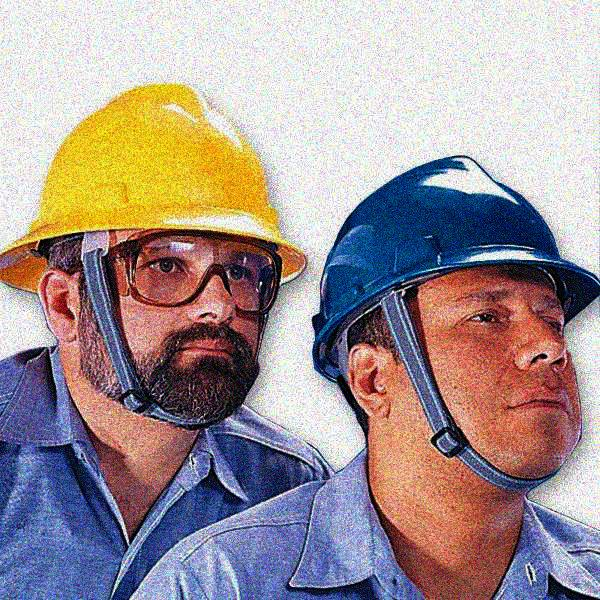helmet: (1, 81, 310, 432), (307, 153, 600, 485)
